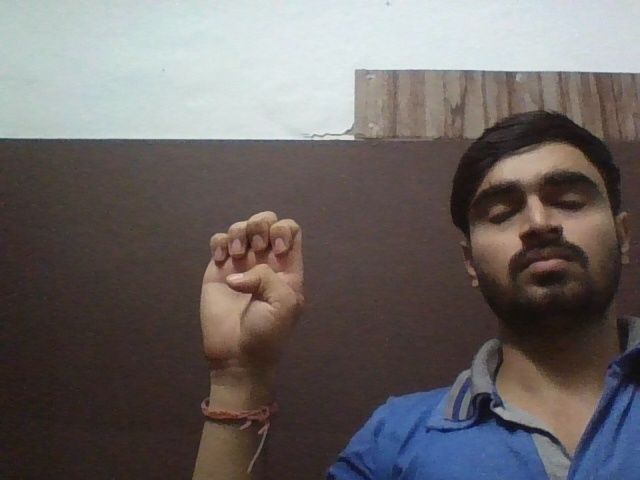E: (191, 208, 320, 371)
